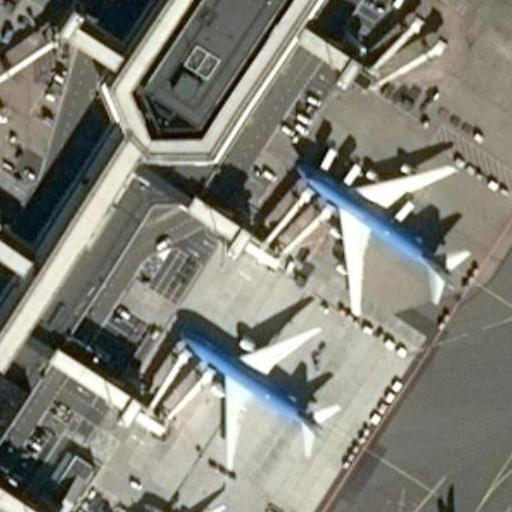Aircraft: (283, 148, 475, 319), (170, 312, 343, 462), (0, 0, 15, 136), (144, 492, 243, 512)
